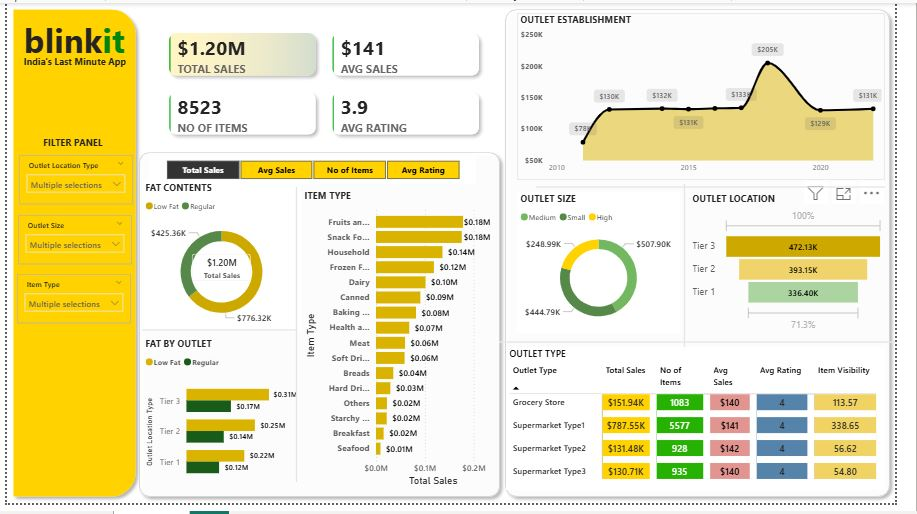

What the dashboard file says about the page in this screenshot:
{"tool":"powerbi","page":{"name":"Page 1","canvas":[1280,720],"ordinal":0},"visuals":[{"type":"shape","box":[0,0,194.4,720],"z":0},{"type":"textbox","box":[262.5,0,205,720],"z":1000},{"type":"textbox","box":[14.4,14.4,165.6,76.3],"z":2000},{"type":"textbox","box":[15.8,70.6,164.2,38.9],"z":3000},{"type":"cardVisual","fields":{"Data":["BlinkIT Grocery Data.Total Sales","BlinkIT Grocery Data.Avg Sales","BlinkIT Grocery Data.No of Items","BlinkIT Grocery Data.Avg Rating"]},"box":[204.5,14.4,504,205.9],"z":4000},{"type":"shape","box":[181.4,205.9,537.1,514.1],"z":5000},{"type":"donutChart","title":"FAT CONTENTS","fields":{"Y":["BlinkIT Grocery Data.Total Sales"],"Category":["BlinkIT Grocery Data.Item Fat Content"]},"box":[194.4,256.3,229,217.4],"z":6000},{"type":"slicer","fields":{"Values":["Metrics.Metrics"]},"box":[204.5,220.3,470.9,40.3],"z":7000},{"type":"cardVisual","fields":{"Data":["BlinkIT Grocery Data.Total Sales"]},"box":[249.1,344.2,119.5,73.4],"z":8000},{"type":"clusteredBarChart","title":"FAT BY OUTLET","fields":{"Y":["BlinkIT Grocery Data.Total Sales"],"Category":["BlinkIT Grocery Data.Outlet Location Type"],"Series":["BlinkIT Grocery Data.Item Fat Content"]},"box":[194.4,481,229,220.3],"z":9000},{"type":"shape","box":[194.4,460.8,223.2,20.2],"z":10000},{"type":"shape","box":[410.4,265,13,424.8],"z":11000},{"type":"clusteredBarChart","title":"ITEM TYPE","fields":{"Y":["BlinkIT Grocery Data.Total Sales"],"Category":["BlinkIT Grocery Data.Item Type"]},"box":[423.4,267.8,295.2,433.4],"z":12000},{"type":"shape","box":[708.5,0,571.7,720],"z":13000},{"type":"lineChart","title":"OUTLET ESTABLISHMENT","fields":{"Category":["BlinkIT Grocery Data.Outlet Establishment Year"],"Y":["BlinkIT Grocery Data.Total Sales"]},"box":[734.4,14.4,529.9,240.5],"z":14000},{"type":"shape","box":[761.8,254.9,502.6,20.2],"z":15000},{"type":"donutChart","title":"OUTLET SIZE","fields":{"Y":["BlinkIT Grocery Data.Total Sales"],"Category":["BlinkIT Grocery Data.Outlet Size"]},"box":[734.4,272.2,234.7,203],"z":16000},{"type":"shape","box":[969.1,260.6,13,240.5],"z":17000},{"type":"funnel","title":"OUTLET LOCATION","fields":{"Category":["BlinkIT Grocery Data.Outlet Location Type"],"Y":["Sum(BlinkIT Grocery Data.Sales)"]},"box":[982.1,272.2,285.1,205.9],"z":18000},{"type":"shape","box":[708.5,475.2,571.7,25.9],"z":19000},{"type":"pivotTable","title":"OUTLET TYPE","fields":{"Rows":["BlinkIT Grocery Data.Outlet Type"],"Values":["BlinkIT Grocery Data.Total Sales","BlinkIT Grocery Data.No of Items","BlinkIT Grocery Data.Avg Sales","BlinkIT Grocery Data.Avg Rating","Sum(BlinkIT Grocery Data.Item Visibility)"]},"box":[718.6,495.4,545.8,205.9],"z":20000},{"type":"slicer","fields":{"Values":["BlinkIT Grocery Data.Outlet Location Type"]},"box":[17.3,218.9,164.2,70.6],"z":21000},{"type":"slicer","fields":{"Values":["BlinkIT Grocery Data.Outlet Size"]},"box":[15.8,305.3,164.2,70.6],"z":21001},{"type":"slicer","fields":{"Values":["BlinkIT Grocery Data.Item Type"]},"box":[14.4,390.2,164.2,70.6],"z":21002},{"type":"textbox","box":[14.4,187.2,161.3,31.7],"z":21003}]}

Visuals, with their boxes in screenshot pixels (x1, y1, x2, y2), scaled from the page's 1280x720 canvas onto the 917x514 screenshot:
shape: [0,0,139,513]
textbox: [188,0,335,513]
textbox: [10,10,129,65]
textbox: [11,50,129,78]
cardVisual - BlinkIT Grocery Data.Total Sales x BlinkIT Grocery Data.Avg Sales: [147,10,508,157]
shape: [130,147,515,513]
"FAT CONTENTS" donutChart: [139,183,303,338]
slicer - Metrics.Metrics: [147,157,484,186]
cardVisual - BlinkIT Grocery Data.Total Sales: [178,246,264,298]
"FAT BY OUTLET" clusteredBarChart: [139,343,303,501]
shape: [139,329,299,343]
shape: [294,189,303,492]
"ITEM TYPE" clusteredBarChart: [303,191,515,501]
shape: [508,0,916,513]
"OUTLET ESTABLISHMENT" lineChart: [526,10,906,182]
shape: [546,182,906,196]
"OUTLET SIZE" donutChart: [526,194,694,339]
shape: [694,186,704,358]
"OUTLET LOCATION" funnel: [704,194,908,341]
shape: [508,339,916,358]
"OUTLET TYPE" pivotTable: [515,354,906,501]
slicer - BlinkIT Grocery Data.Outlet Location Type: [12,156,130,207]
slicer - BlinkIT Grocery Data.Outlet Size: [11,218,129,268]
slicer - BlinkIT Grocery Data.Item Type: [10,279,128,329]
textbox: [10,134,126,156]
